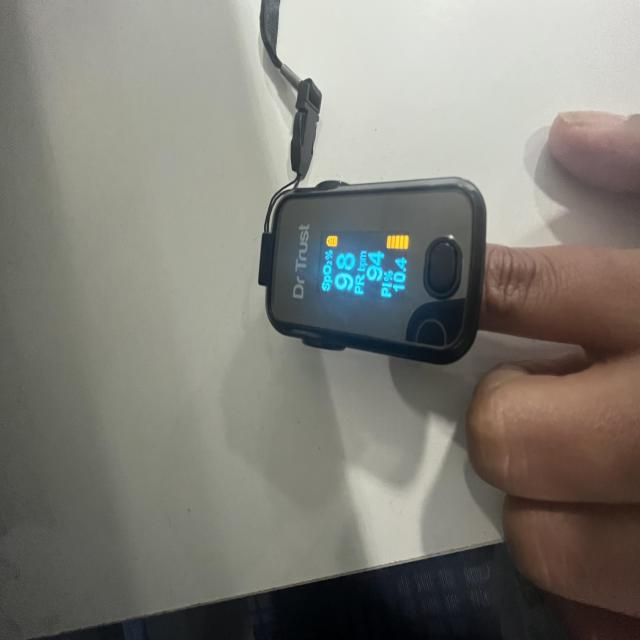spo2: (258, 177, 489, 367)
